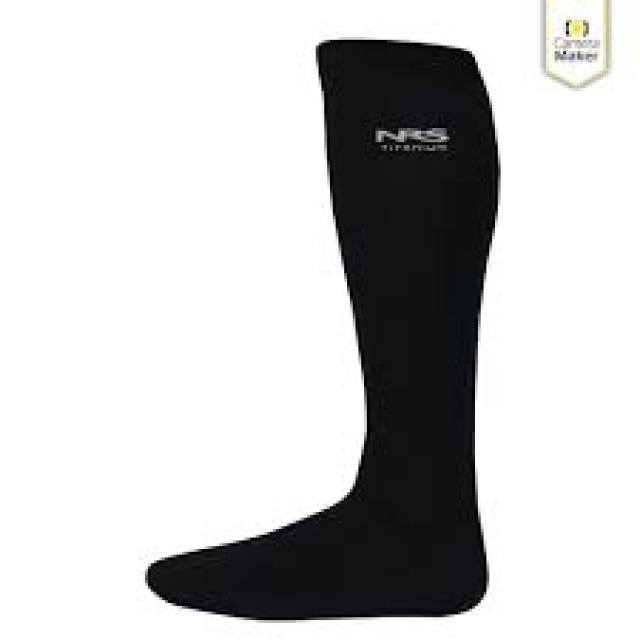sock: (142, 37, 498, 620)
